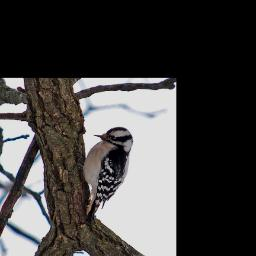Woodpecker: (70, 127, 133, 223)
